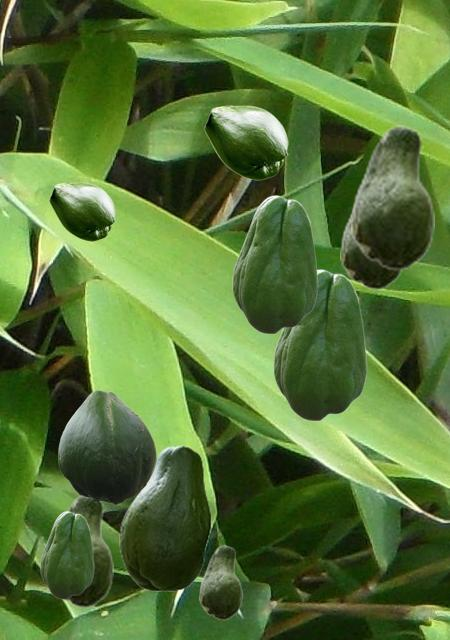sayote: (273, 269, 366, 420), (119, 445, 210, 590), (351, 125, 433, 270), (232, 195, 317, 333), (58, 390, 155, 504), (340, 191, 404, 289), (204, 105, 287, 179), (58, 494, 112, 607), (40, 511, 93, 598), (49, 182, 114, 240), (199, 545, 241, 619)
